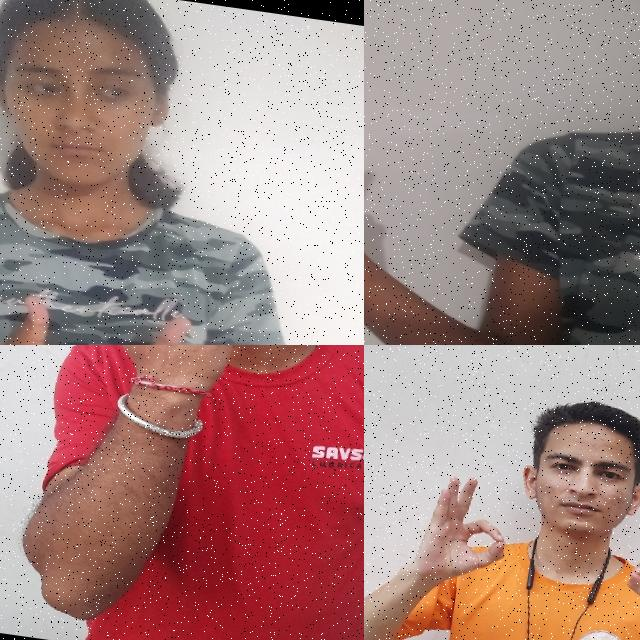Chin Flick: (96, 345, 364, 428)
Middle Finger: (364, 69, 408, 292)
Okay: (408, 462, 522, 601), (617, 508, 640, 638)
Thumbs Up: (0, 281, 103, 345), (97, 303, 217, 345)
